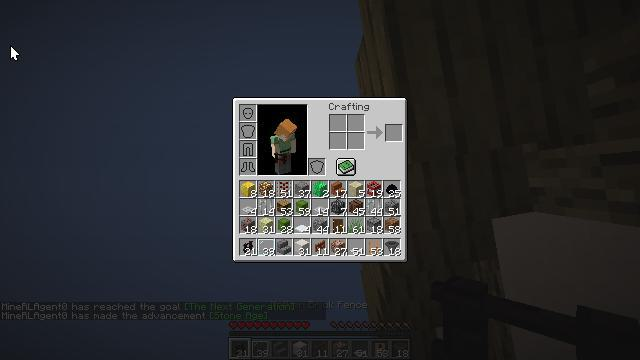cursor: (10, 45, 20, 61)
